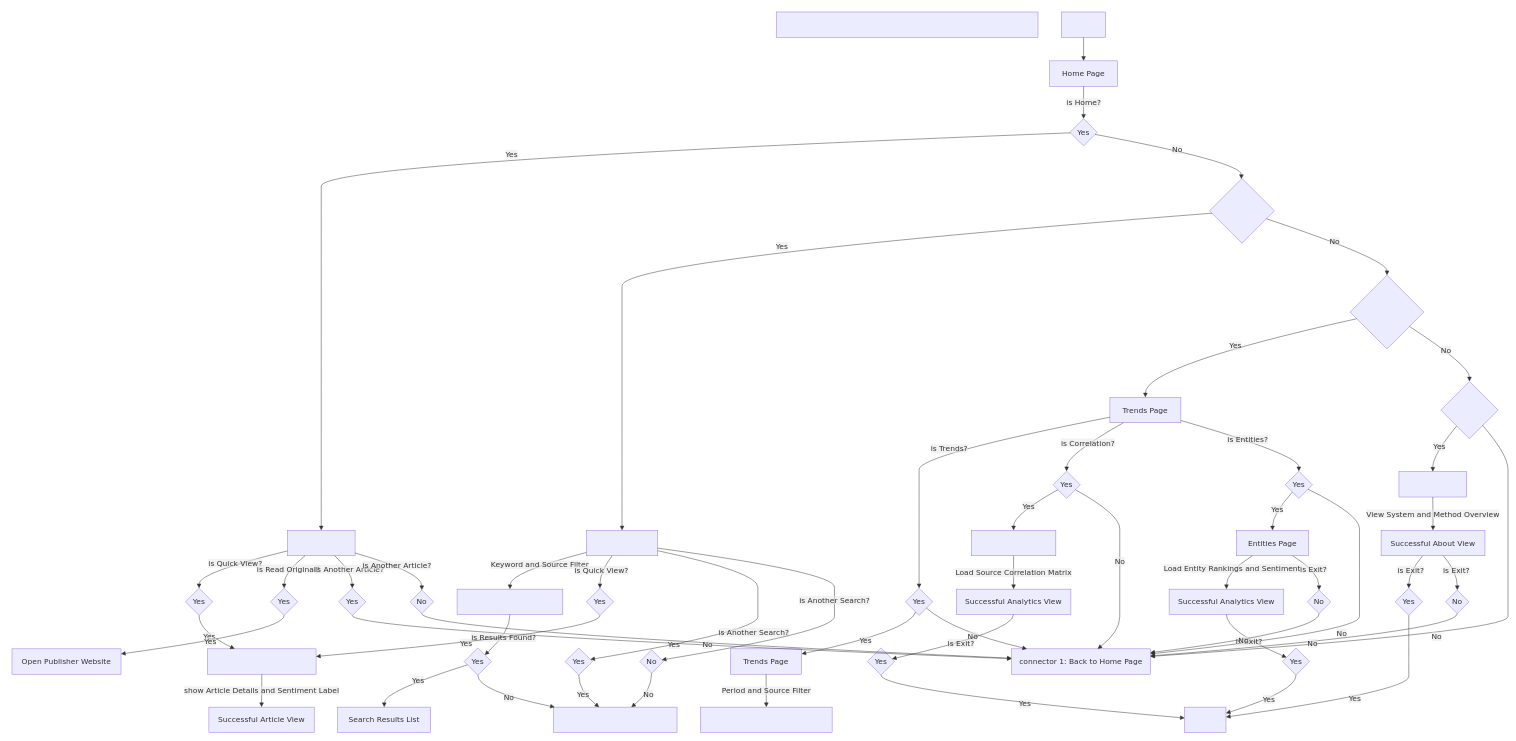
Image size: 1516x741. Some labels were removed from this diagram. The centre of each missing label's shape, as x and y in pixels:
"About Page" goes at (x=1432, y=484).
"connector 2: Another Search" goes at (x=615, y=719).
"Correlation Page" goes at (x=1013, y=543).
"End" goes at (x=1205, y=719).
"Fetch Matching Articles" goes at (x=510, y=602).
"Home Feed" goes at (x=321, y=543).
"is About?" goes at (x=1469, y=410).
"is Analytics?" goes at (x=1387, y=312).
"is Search?" goes at (x=1241, y=210).
"Load Sentiment Timeline Chart" goes at (x=766, y=719).
"Open Quick View Modal" goes at (x=261, y=661).
"Program Flowchart — PH VibeCheck AI Frontend (Next.js Dashboard)" goes at (x=907, y=24).
"Search Page" goes at (x=622, y=543).
"Start" goes at (x=1083, y=24).
